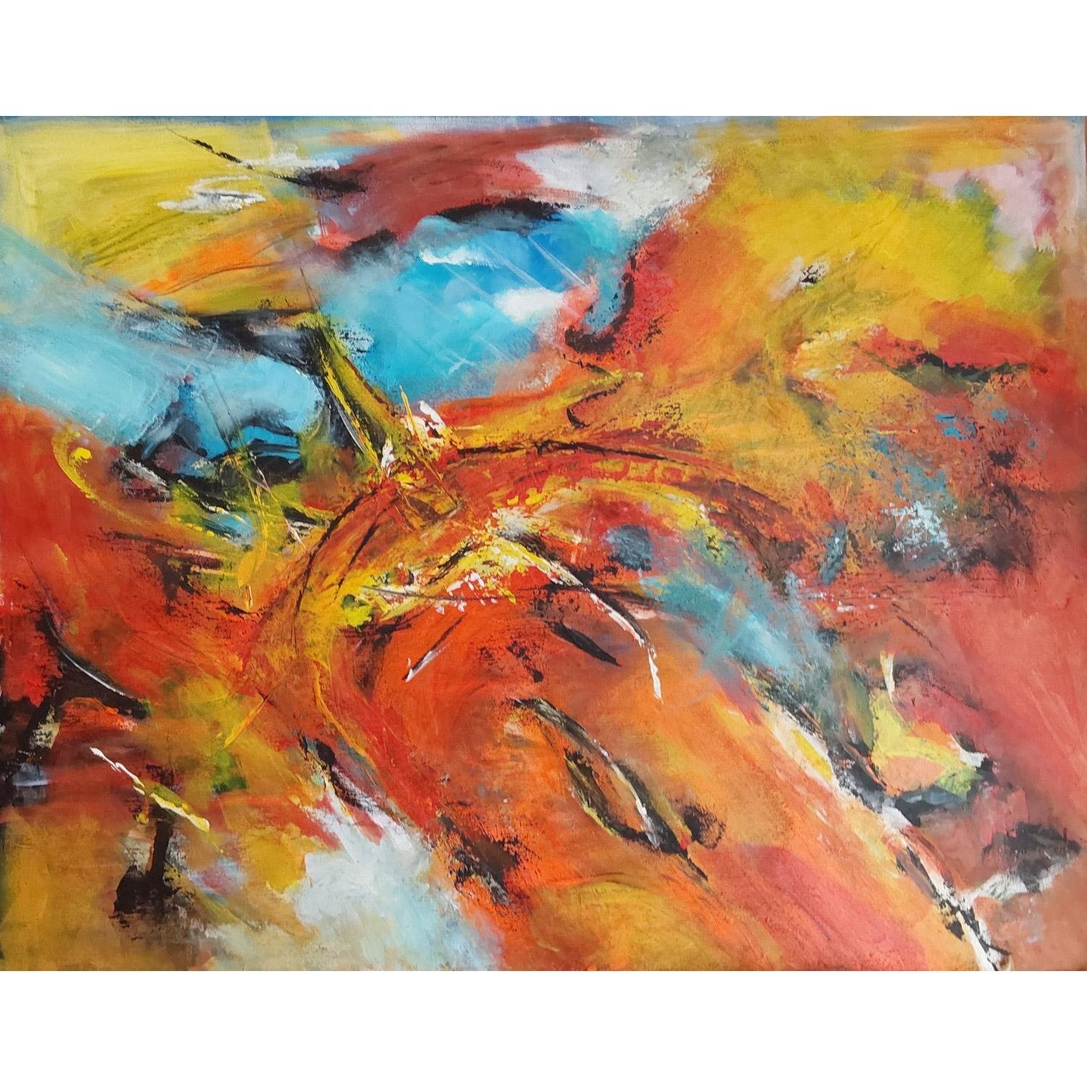painting: (4, 117, 1082, 969)
